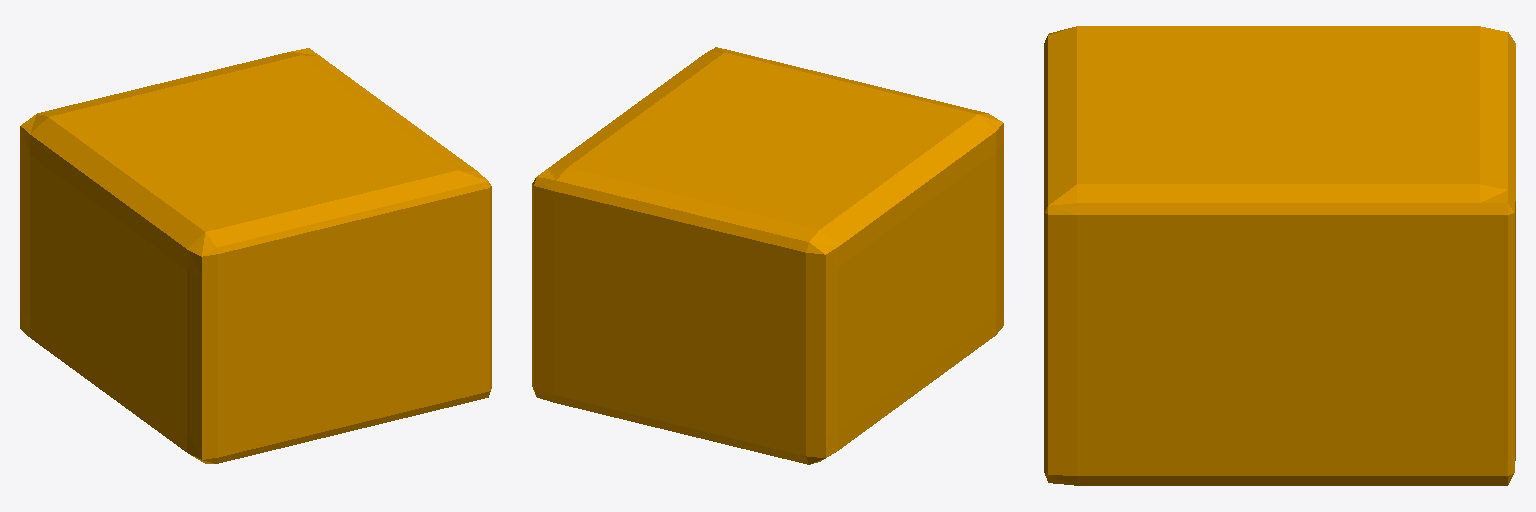
The robot description file, URDF, robot "cylinder_box_169":
<?xml version="1.0" encoding="utf-8"?>  <robot name="cylinder_box_169">   <link name="cylinder_box_169">     <visual>       <geometry>         <mesh filename="../meshes/box/box_169.stl" scale="1 1 1"/>       </geometry>     </visual>     <collision>       <geometry>         <mesh filename="../meshes/box/box_169.stl" scale="1 1 1"/>       </geometry>     </collision>     <inertial>        <origin         xyz="0 0 0"         rpy="0 0 0" />       <mass value="0.34955798134876187"/>       <origin rpy="0 0 0" xyz="0 0 0"/>       <inertia ixx="0.0002859841692961616" ixy="-7.2197552611753375e-09" ixz="5.399835093244766e-08" iyy="0.0002577650144388311" iyz="5.427268455893472e-09" izz="0.00035829895223841453"/>     </inertial>   </link>  </robot>

--- What the picture shows (computed from the rendered views, not written in the file) ---
The picture shows the robot from 3 angles, left to right: view 1: azimuth 30°, elevation 25°; view 2: azimuth 150°, elevation 25°; view 3: azimuth 270°, elevation 25°; orthographic projection.
Robot: cylinder_box_169 — 1 links, 0 joints (none); root link cylinder_box_169; default pose: all joints at 0.
Links seen in each view (by area): view 1: cylinder_box_169; view 2: cylinder_box_169; view 3: cylinder_box_169.
Link boxes in pixels (bbox=[...]): cylinder_box_169: bbox=[20, 48, 491, 463]; cylinder_box_169: bbox=[532, 47, 1003, 464]; cylinder_box_169: bbox=[1044, 26, 1515, 485].
Bounding box of the posed robot: 0.0758 × 0.0819 × 0.057 m (x, y, z).
Meshes: 1 distinct files referenced, 1 mesh visuals loaded (1 binary STL).